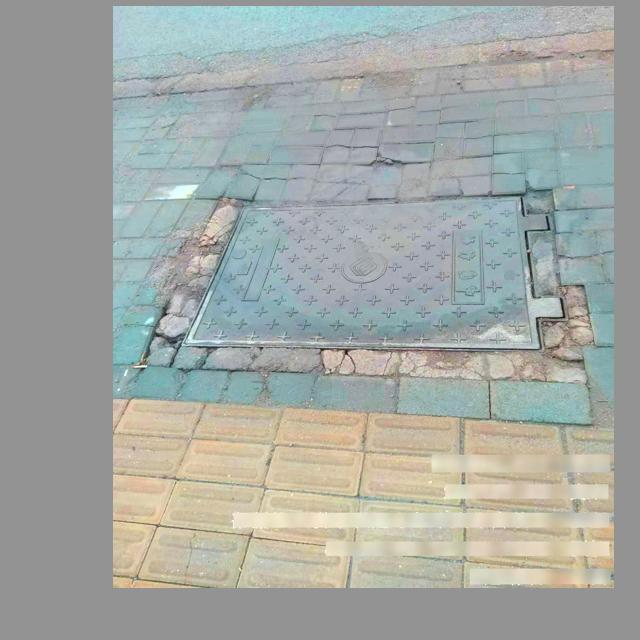good: (182, 195, 569, 347)
